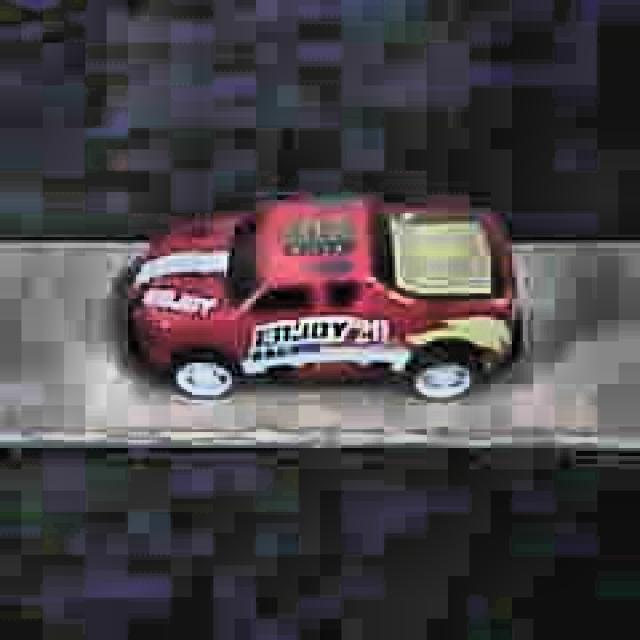car: (123, 192, 524, 402)
